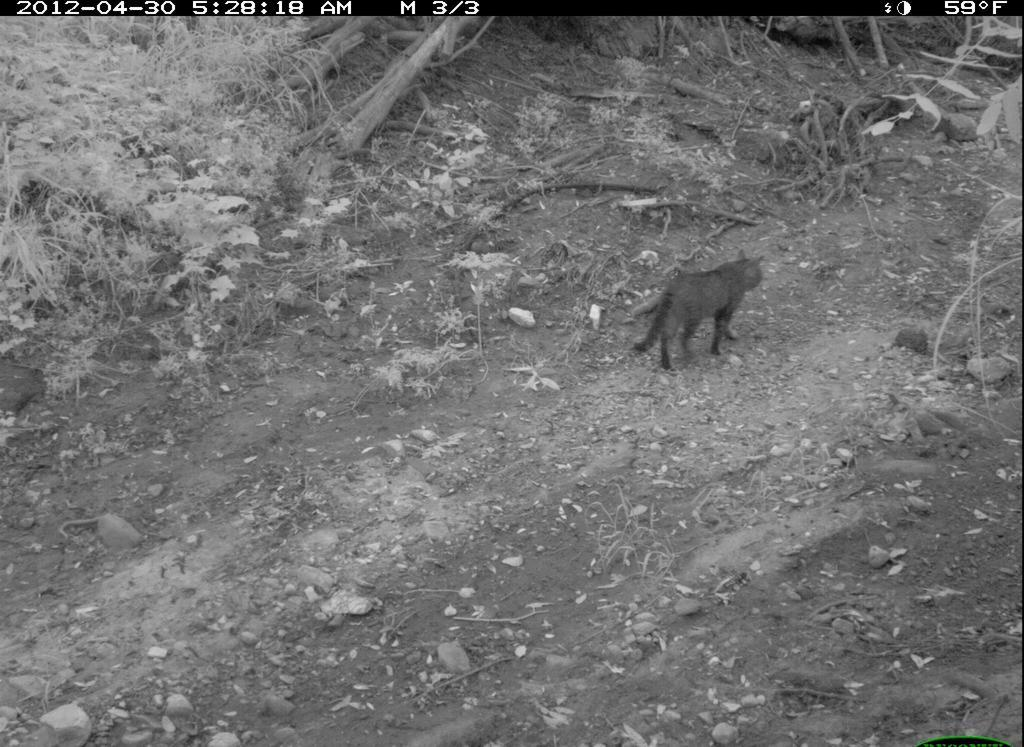cat: (624, 246, 774, 381)
